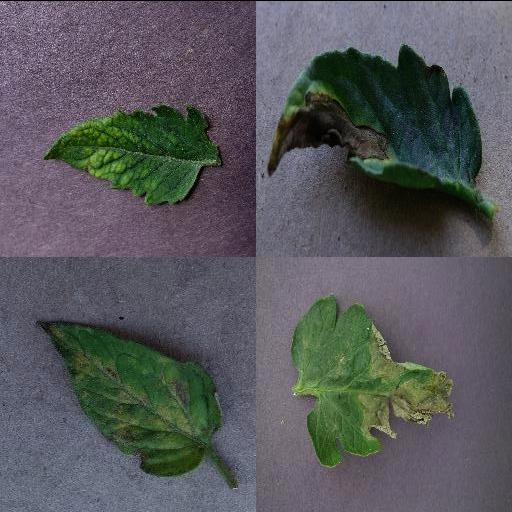Early Blight: (263, 44, 479, 198)
Late Blight: (292, 291, 456, 465)
Leaf Mold: (37, 320, 223, 476)
Mosaic Virus: (43, 101, 213, 205)
